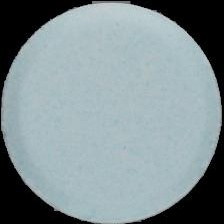0378-1620: (0, 0, 224, 224)
